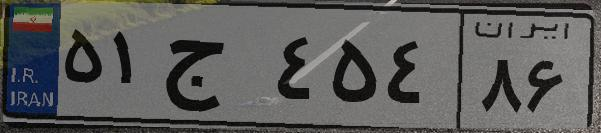1: (110, 28, 158, 98)
4: (270, 28, 330, 110), (385, 28, 445, 110)
5: (330, 28, 385, 110), (57, 26, 110, 100)
6: (525, 38, 570, 115)
8: (475, 38, 525, 113)
ج: (158, 20, 270, 120)
